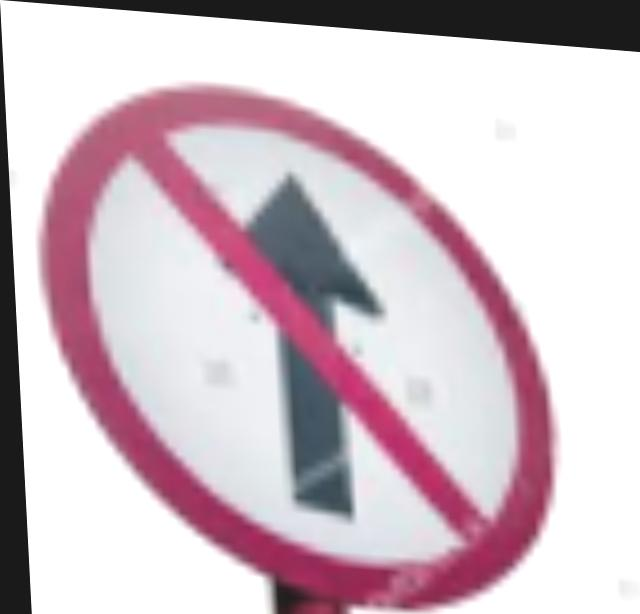not_go_straight: (24, 60, 572, 614)
